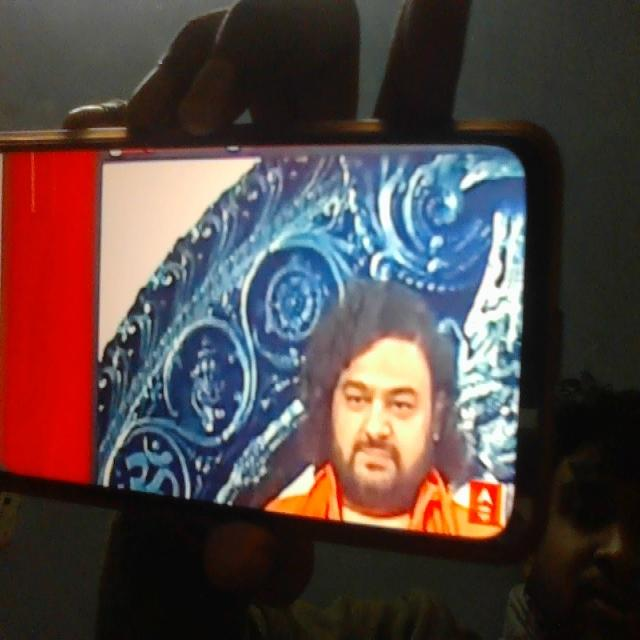fake: (313, 265, 443, 512)
